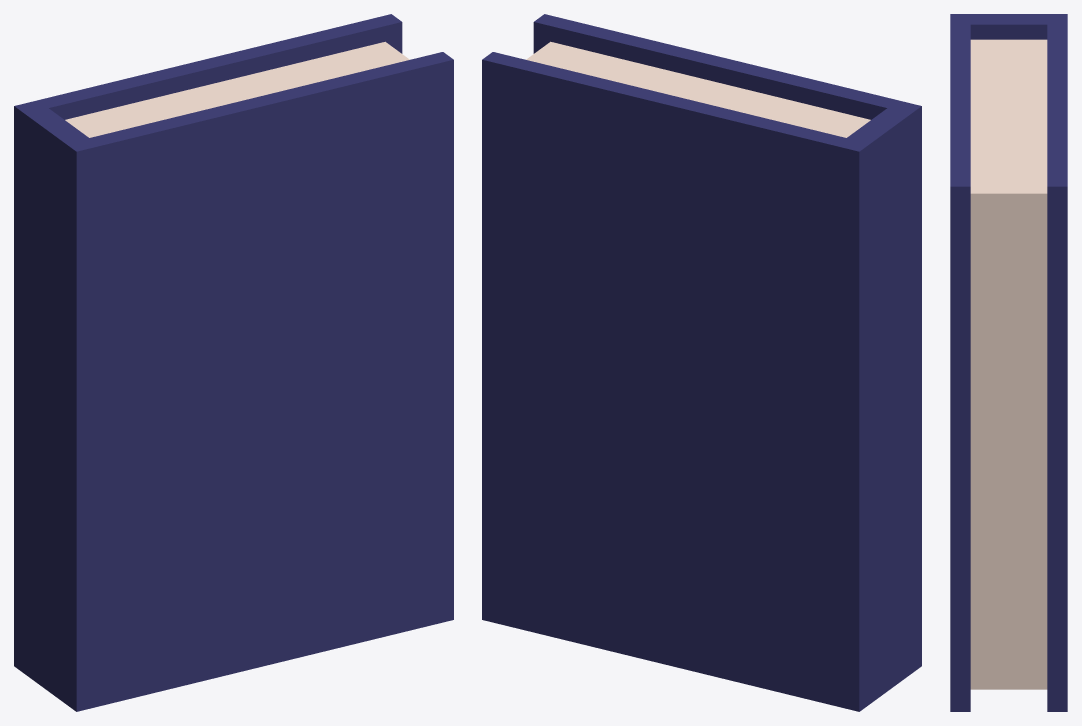
File: BookBlue.fbx
3 renders of one model, left to right at view 1: azimuth 30°, elevation 25°; view 2: azimuth 150°, elevation 25°; view 3: azimuth 270°, elevation 25°, orthographic. The views are drawn at different scales.
Parts seen in each view (by area): view 1: BlueBook; view 2: BlueBook; view 3: BlueBook.
Boxes of the visible parts, x1,y1,x2,y2 form: BlueBook: (14,14,453,711); BlueBook: (482,14,921,711); BlueBook: (950,14,1067,711).
Size of the model in its own units: 0.2269 by 0.322 by 0.065.
